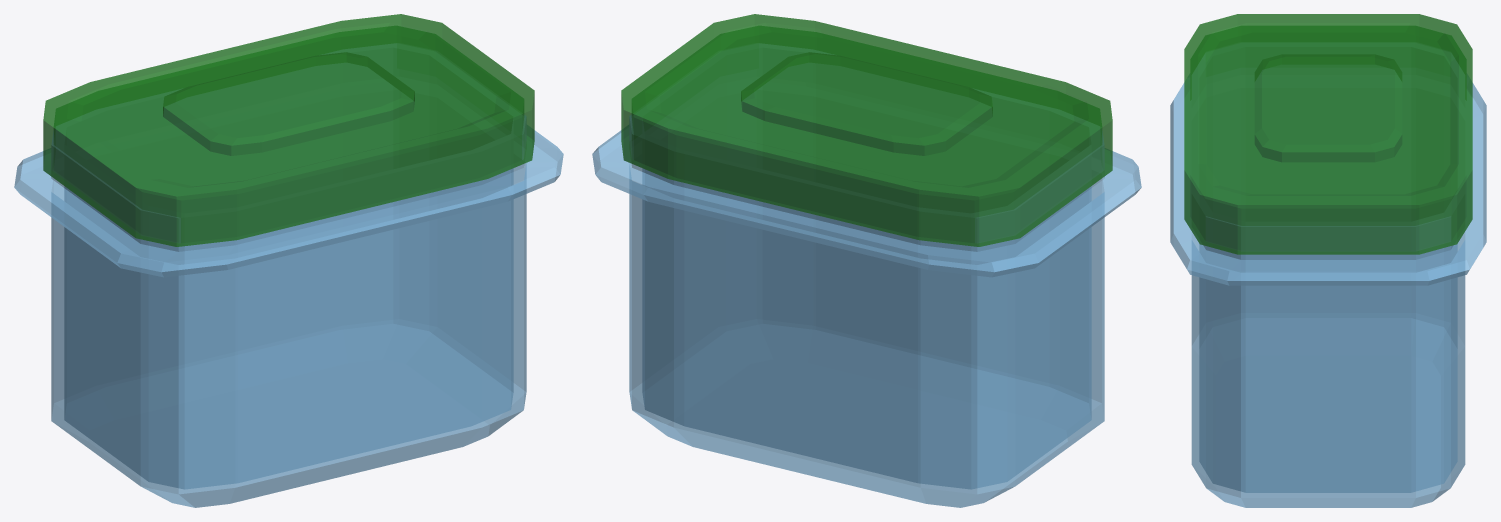
The model's file is tupper 03.fbx.
3 views of the same model, side by side, from view 1: azimuth 30°, elevation 25°; view 2: azimuth 150°, elevation 25°; view 3: azimuth 270°, elevation 25° (orthographic).
Parts seen in each view (by area): view 1: tupper.002, tapa tupper.002; view 2: tupper.002, tapa tupper.002; view 3: tupper.002, tapa tupper.002.
Part boxes in pixels (bbox=[...]): tupper.002: bbox=[14, 44, 563, 507]; tapa tupper.002: bbox=[43, 14, 534, 246]; tupper.002: bbox=[592, 44, 1141, 507]; tapa tupper.002: bbox=[621, 14, 1112, 246]; tupper.002: bbox=[1170, 55, 1486, 507]; tapa tupper.002: bbox=[1184, 14, 1472, 254].
Bounding box in the file's own units: 18.5 × 11.56 × 13.36.
